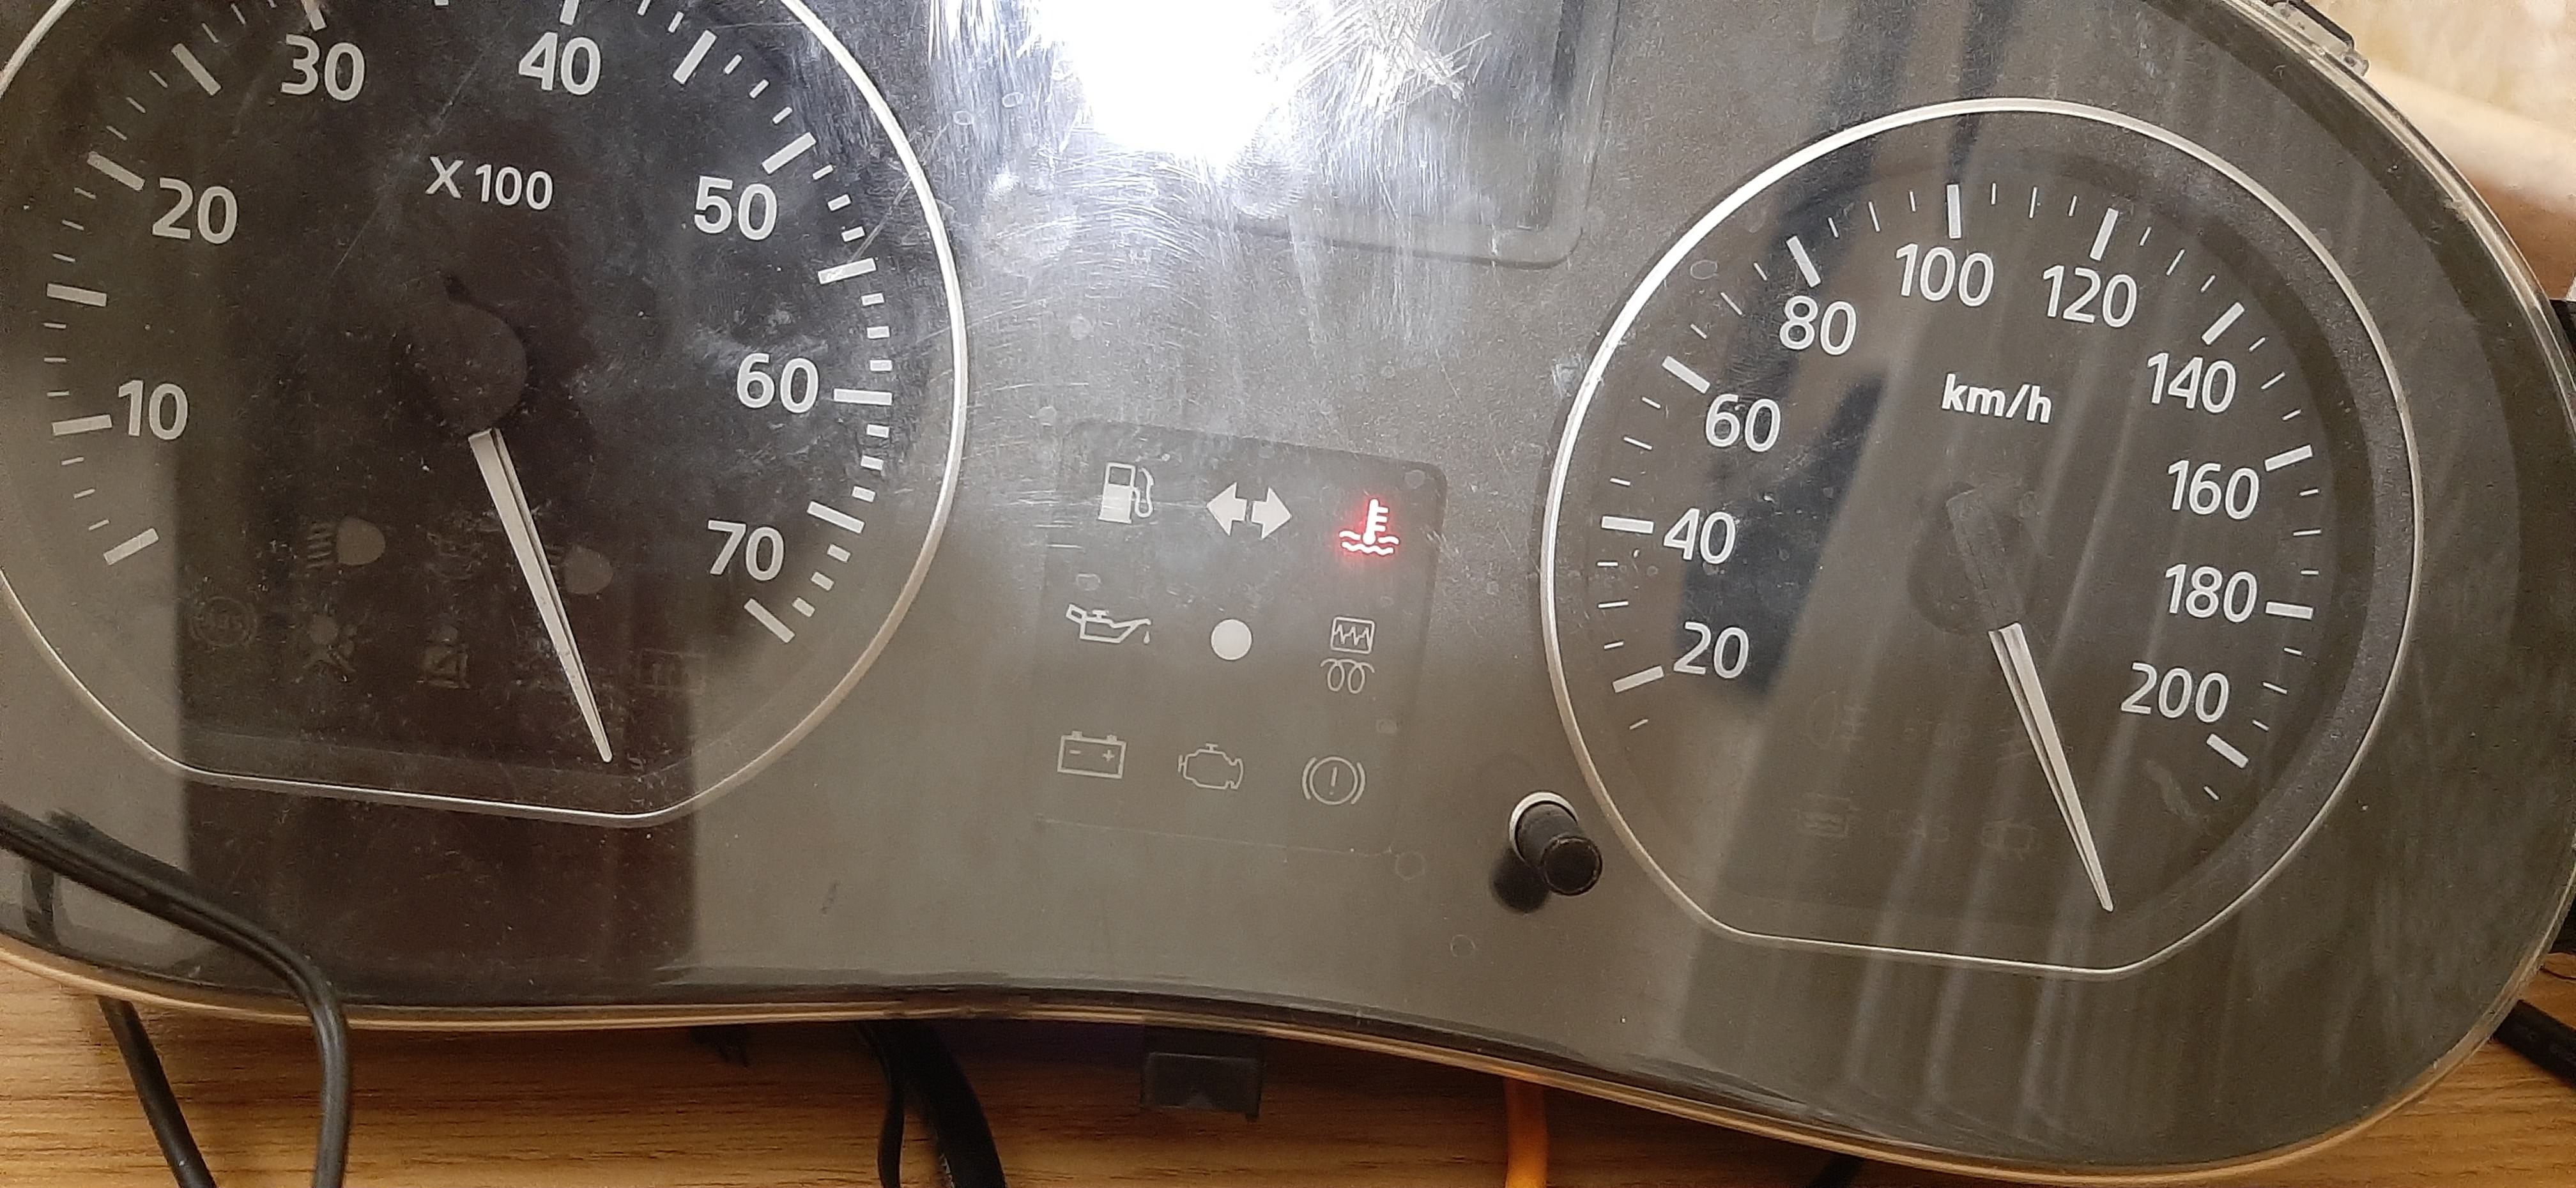Engine Overheating13: (1337, 498, 1403, 557)
